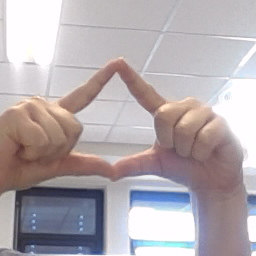J: (1, 55, 248, 187)
